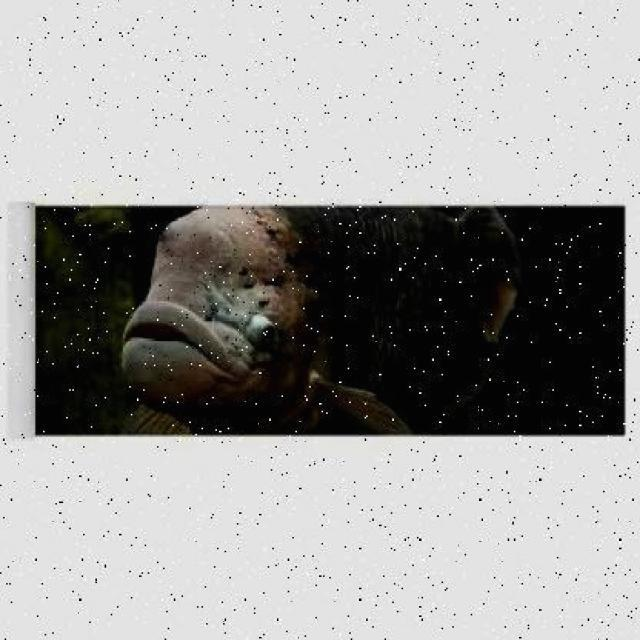gurame: (112, 204, 526, 433)
